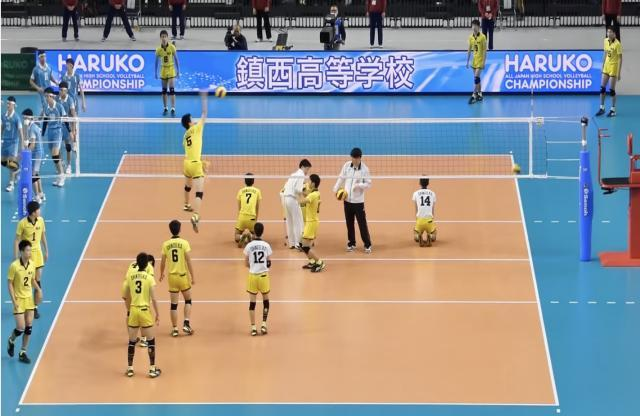spike: (177, 83, 228, 236)
